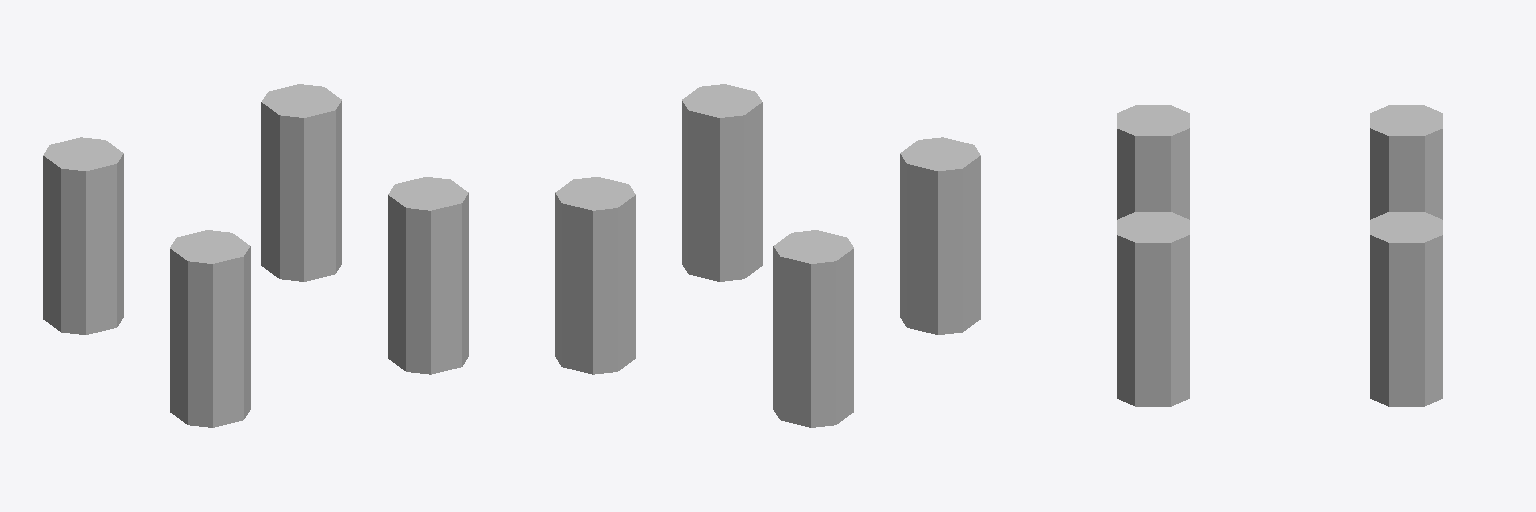
Rendered from support-four-middle.obj.
The picture shows the model from 3 angles: view 1: azimuth 30°, elevation 25°; view 2: azimuth 150°, elevation 25°; view 3: azimuth 270°, elevation 25°; orthographic projection.
Visible parts, largest first — view 1: support-four-middle; view 2: support-four-middle; view 3: support-four-middle.
Part boxes in pixels (left/top/right/bottom): support-four-middle: left=43, top=84, right=468, bottom=427; support-four-middle: left=555, top=84, right=980, bottom=427; support-four-middle: left=1117, top=105, right=1442, bottom=406.
Size of the model in its own units: 0.8969 by 0.5 by 0.9.